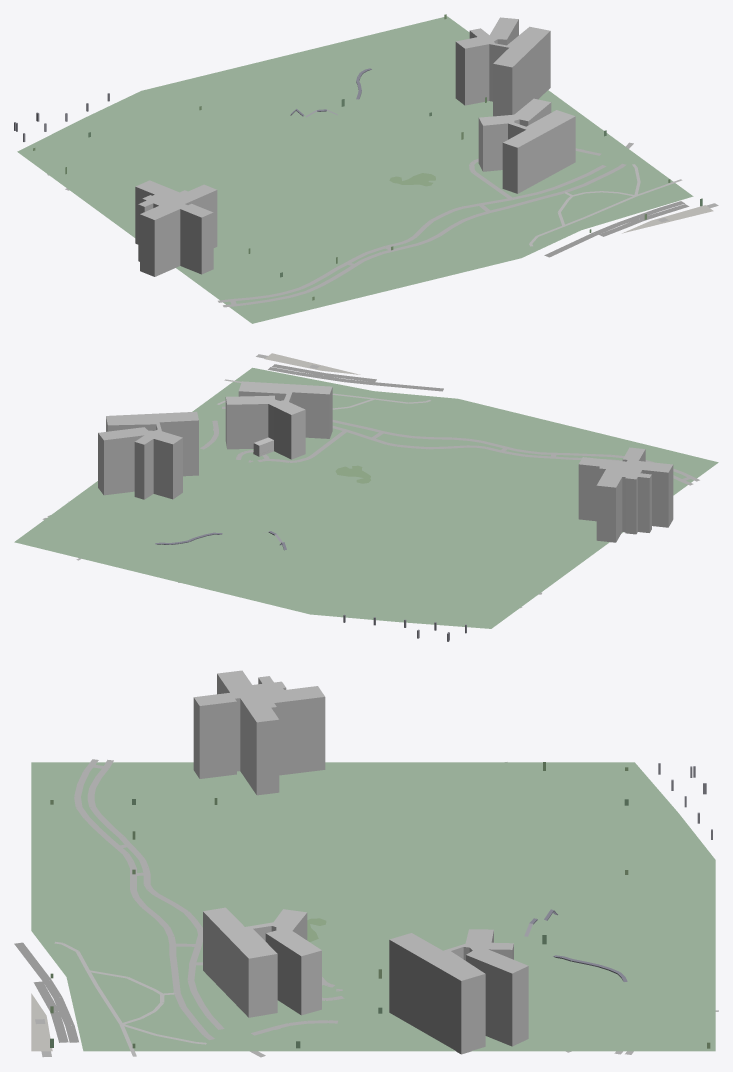
The picture shows the model from 3 angles, top to bottom: view 1: azimuth 30°, elevation 25°; view 2: azimuth 150°, elevation 25°; view 3: azimuth 270°, elevation 25°; orthographic projection. The views are drawn at different scales.
Bounding box in the file's own units: 543 × 60.71 × 515.
